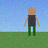person: (24, 7, 39, 36)
